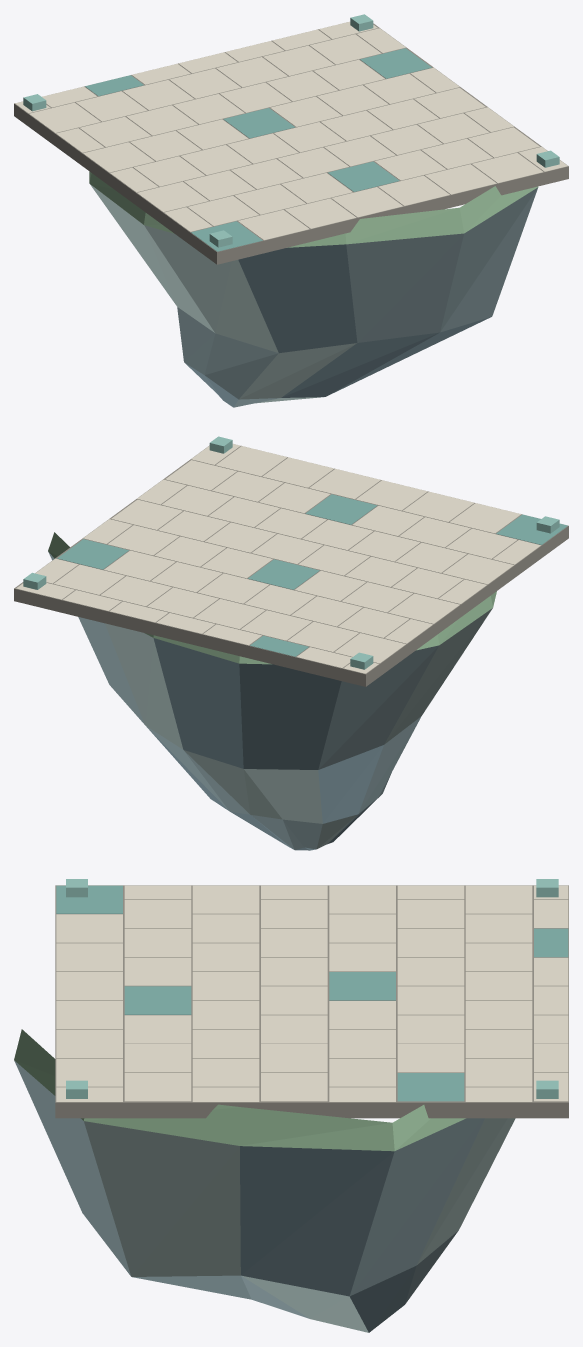
Rendered from FloatingIsland28.glb.
3 views of the same model, one above another, from view 1: azimuth 30°, elevation 25°; view 2: azimuth 150°, elevation 25°; view 3: azimuth 270°, elevation 25° (orthographic). The views are drawn at different scales.
Visible parts, largest first — view 1: FloatingIsland28; view 2: FloatingIsland28; view 3: FloatingIsland28.
Part boxes in pixels (bbox=[...]): FloatingIsland28: bbox=[14, 14, 568, 407]; FloatingIsland28: bbox=[14, 436, 568, 850]; FloatingIsland28: bbox=[14, 879, 568, 1332].
Bounding box in the file's own units: 8.69 × 6.02 × 8.54.
